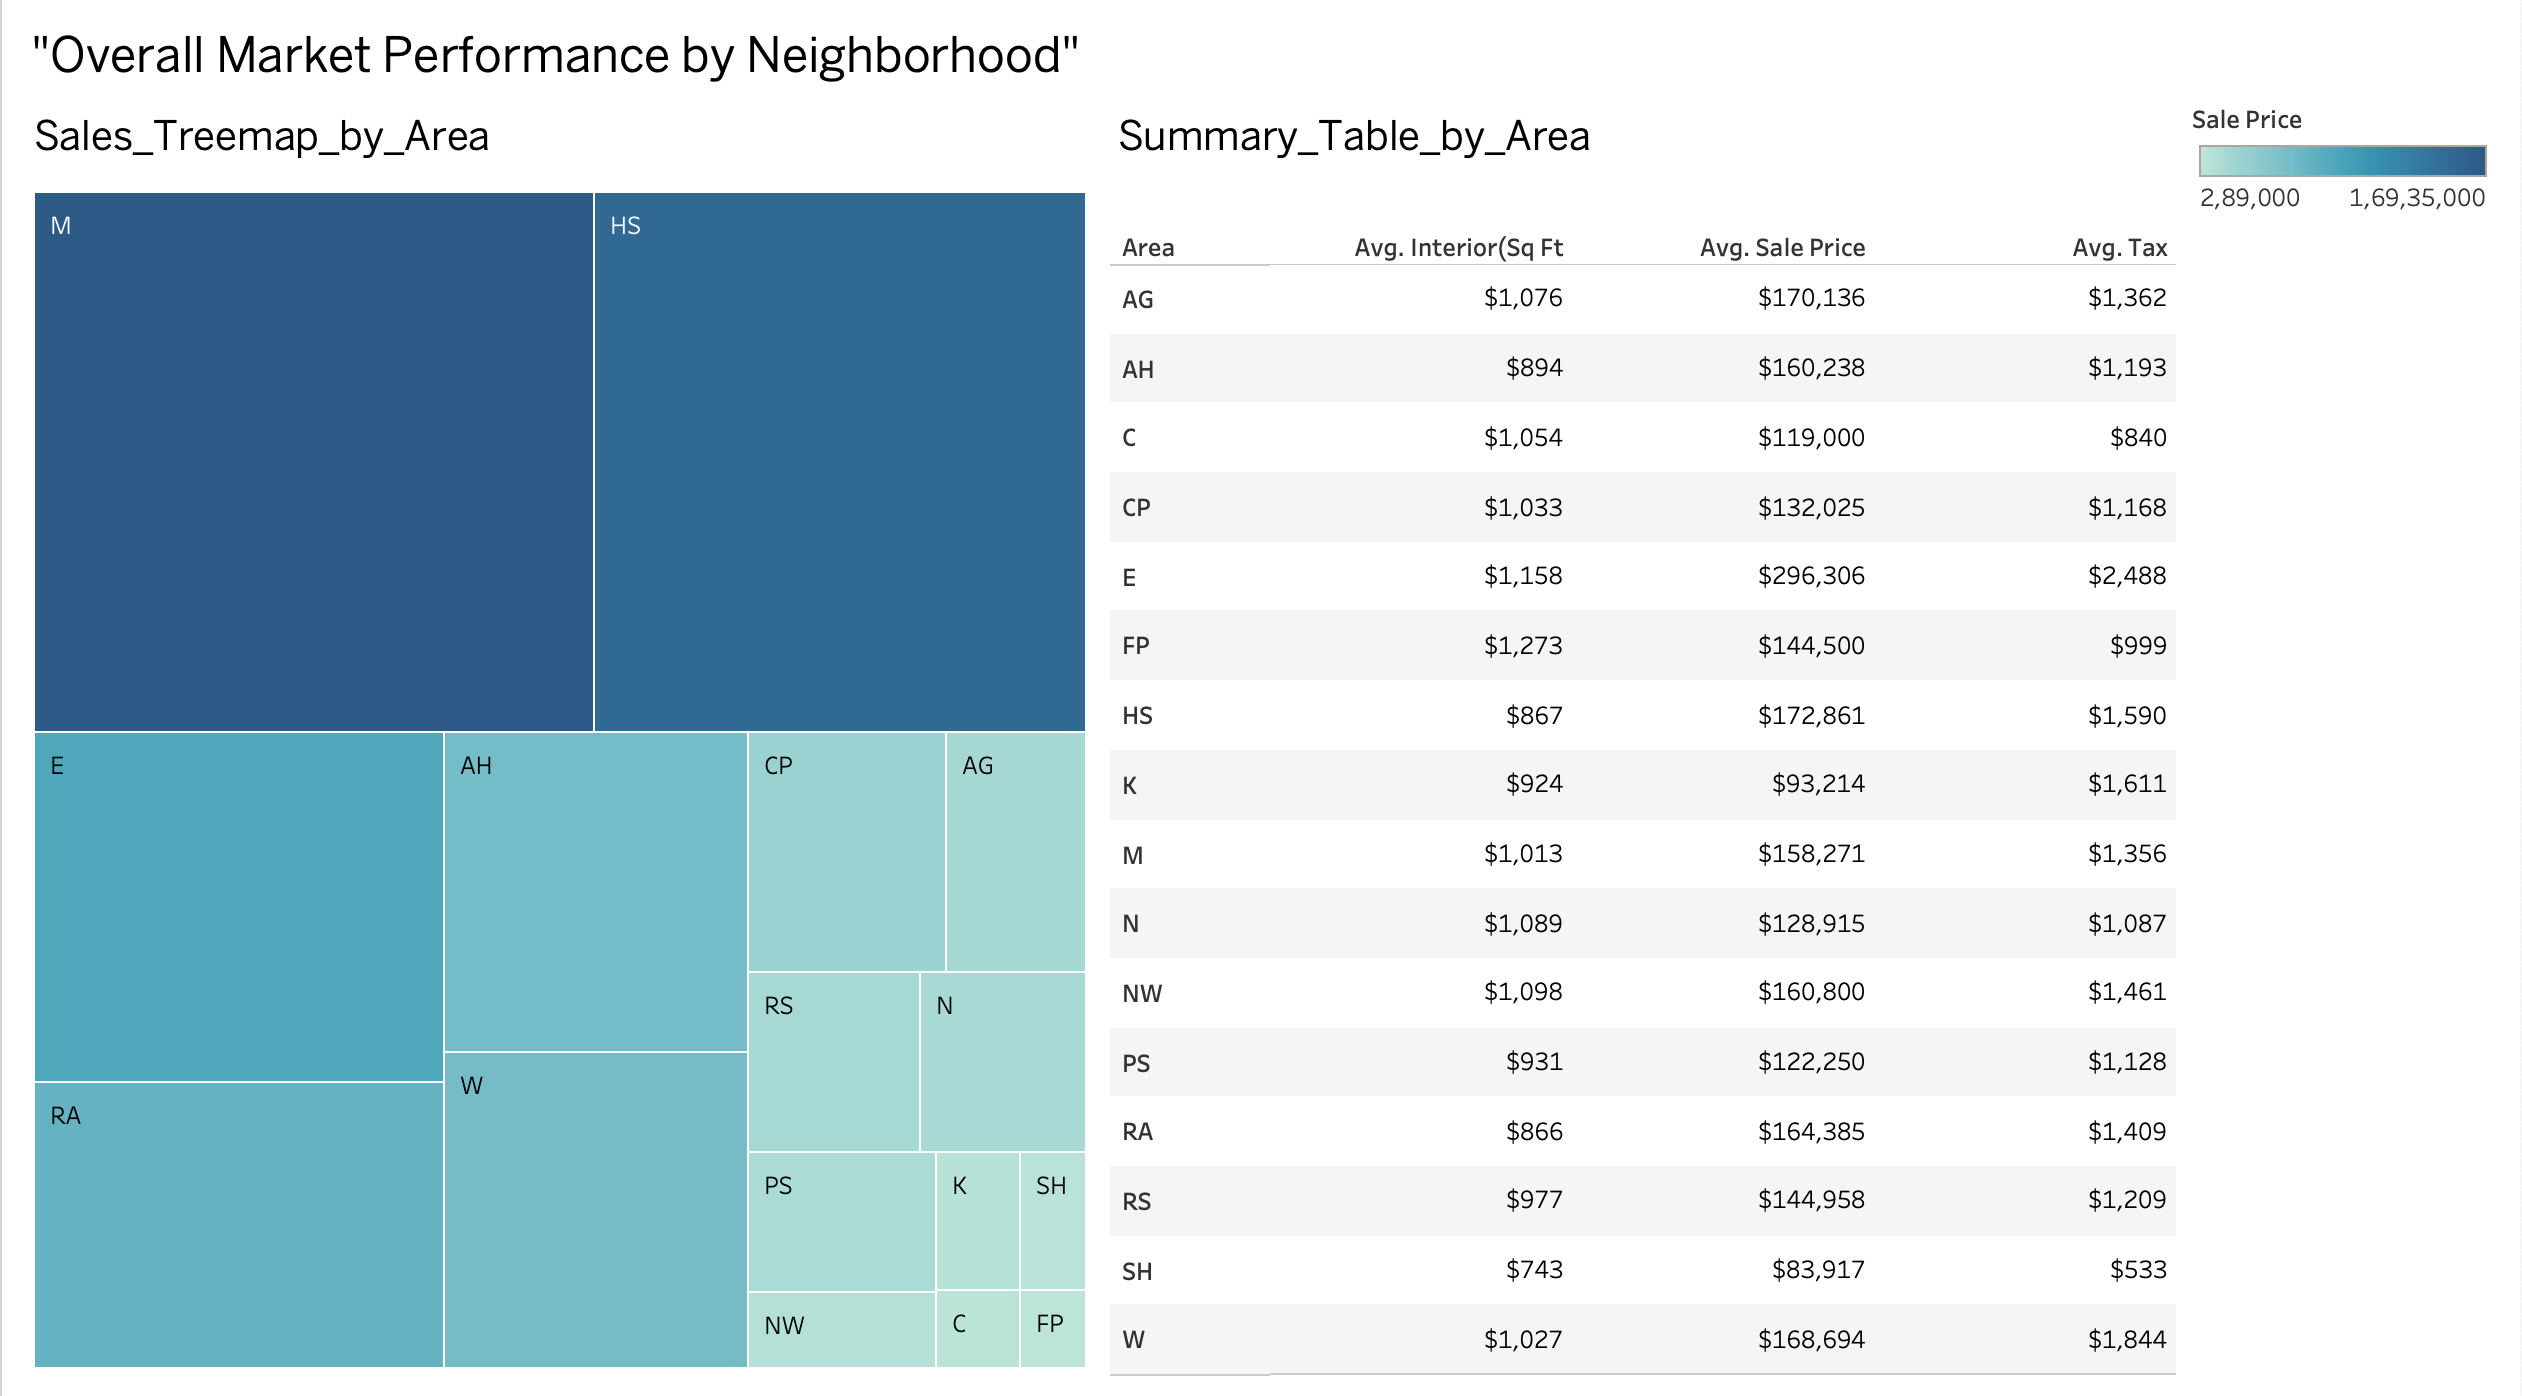

The dashboard page shown, as its layout file describes it:
{"tool":"tableau","page":{"name":"Dashboard 5","canvas":[1000,1000],"units":"permille","ordinal":4},"visuals":[{"type":"title","box":[6.4,11.4,987.3,55.7]},{"type":"worksheet","title":"Sales_Treemap_by_Area","mark":"Automatic","box":[6.4,67.2,430.1,921.4]},{"type":"worksheet","title":"Summary_Table_by_Area","mark":"Automatic","rows":["Area"],"box":[436.5,67.2,430.1,921.4]},{"type":"legend","title":"Sales_Treemap_by_Area","param":"[federated.1l51b5o0rf3ksn17bl38e0cslj1m].[sum:Sale Price:qk]","box":[866.6,67.2,127.1,92.9]}]}

Visuals, with their boxes on the dashboard's canvas, which has no fixed pixel size, in thousandths of its width and height (x1, y1, x2, y2). These are canvas units, not pixel positions in the 2522x1396 screenshot, which may show the page scaled, cropped or inside an application window:
title: <region>6, 11, 994, 67</region>
"Sales_Treemap_by_Area" worksheet: <region>6, 67, 436, 989</region>
"Summary_Table_by_Area" worksheet: <region>436, 67, 867, 989</region>
"Sales_Treemap_by_Area" legend: <region>867, 67, 994, 160</region>
